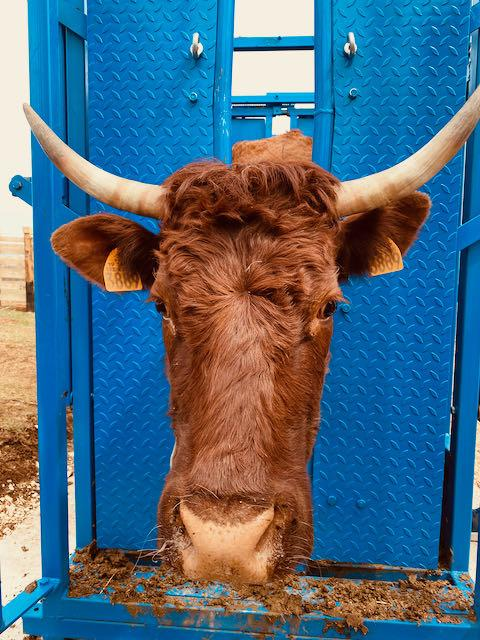muzzles: (151, 482, 313, 592)
